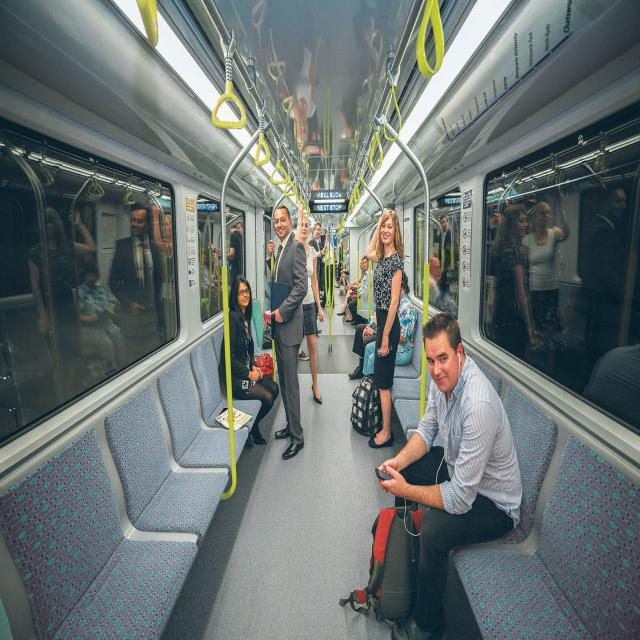body: (0, 202, 259, 432), (372, 306, 527, 640), (202, 0, 424, 202), (480, 171, 640, 420), (264, 203, 310, 460), (218, 274, 279, 449), (366, 208, 406, 450), (412, 180, 460, 314), (294, 204, 325, 405), (362, 272, 418, 379), (313, 224, 350, 302), (348, 309, 377, 382), (307, 221, 325, 338), (336, 258, 366, 323), (348, 255, 374, 329), (318, 232, 335, 309), (337, 248, 350, 285), (297, 345, 310, 362), (338, 238, 344, 269), (336, 238, 344, 261), (313, 329, 323, 337)
